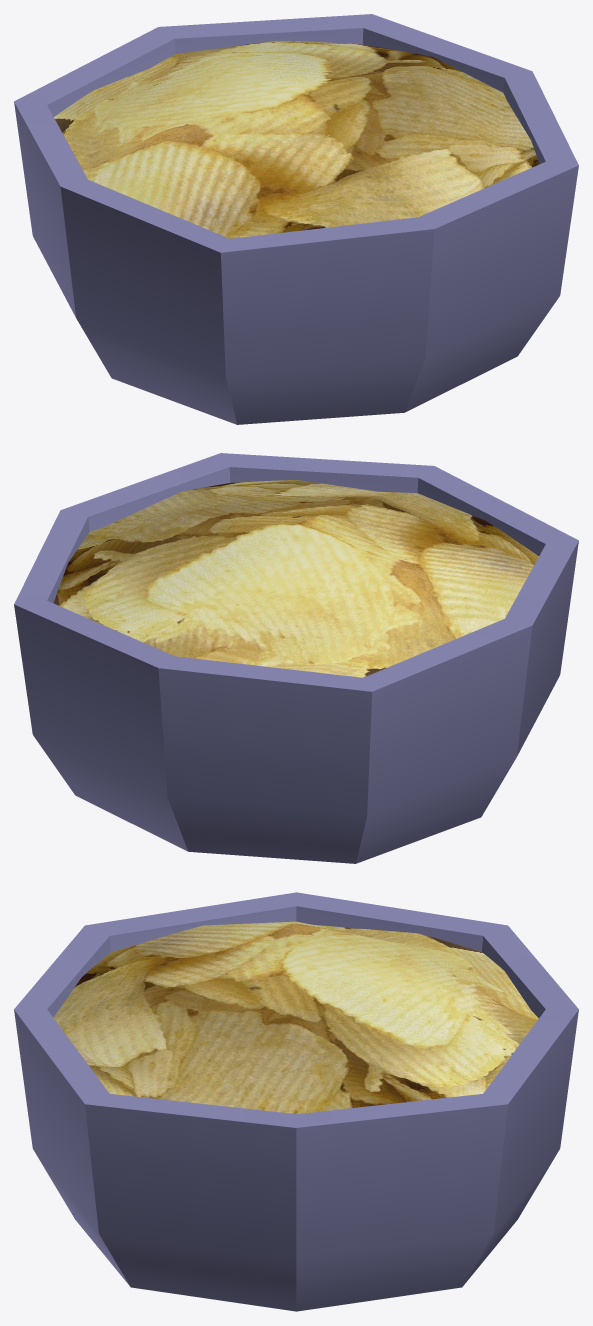
File: chaps.fbx
3 renders of one model, top to bottom at view 1: azimuth 30°, elevation 25°; view 2: azimuth 150°, elevation 25°; view 3: azimuth 270°, elevation 25°, orthographic. The views are drawn at different scales.
Visible parts, largest first — view 1: Cube; view 2: Cube; view 3: Cube.
Boxes of the visible parts, x1,y1,x2,y2 form: Cube: [14, 14, 578, 424]; Cube: [14, 453, 578, 863]; Cube: [14, 892, 578, 1311].
Size of the model in its own units: 308 by 155 by 312.
